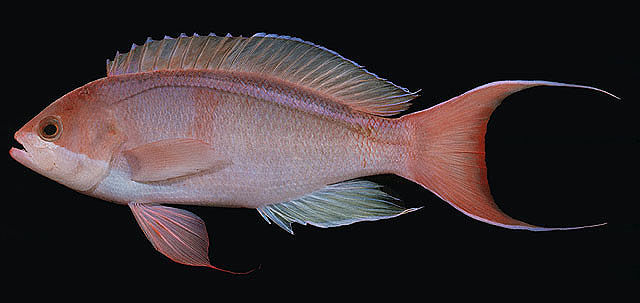fish: (10, 30, 621, 276)
